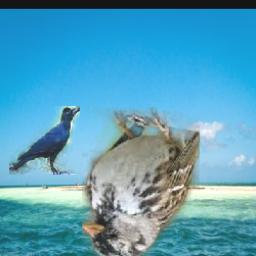Crow: (10, 106, 81, 175)
Sparrow: (83, 108, 201, 256)
